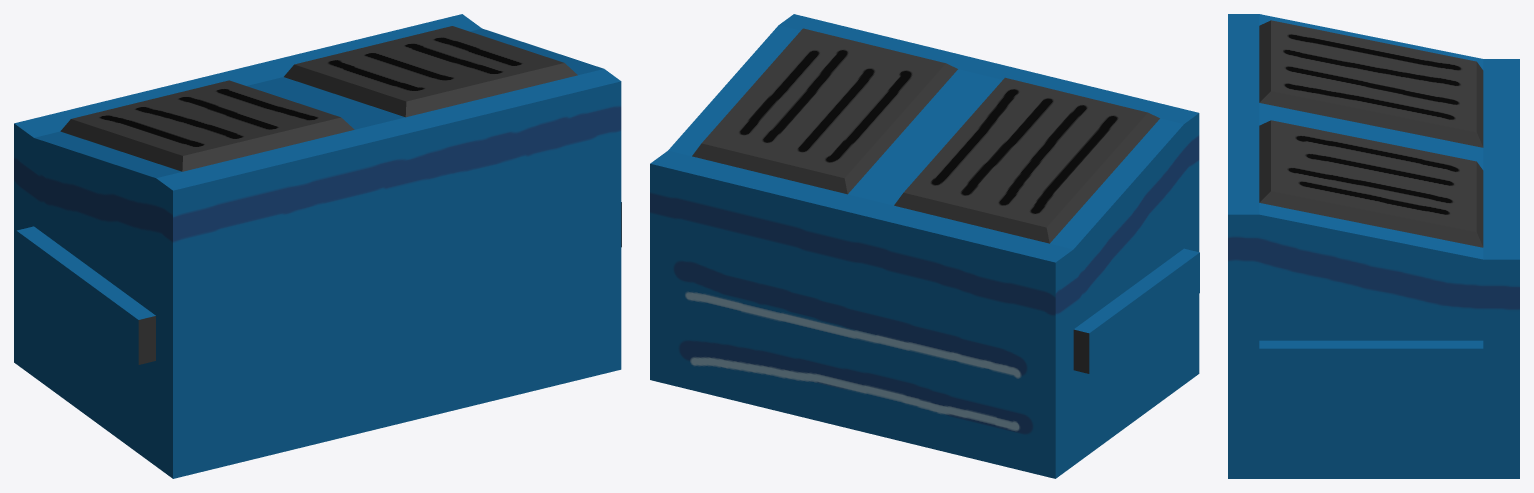
Rendered from Dumpster.fbx.
3 views of the same model, side by side, from view 1: azimuth 30°, elevation 25°; view 2: azimuth 150°, elevation 25°; view 3: azimuth 270°, elevation 25° (orthographic). The views are drawn at different scales.
Visible parts, largest first — view 1: Cube; view 2: Cube; view 3: Cube.
Part boxes in pixels (x1,y1,x2,y2): Cube: (14,14,621,478); Cube: (650,14,1199,478); Cube: (1228,14,1519,478).
Size of the model in its own units: 351 by 207 by 200.
1 material, 1 textured.
